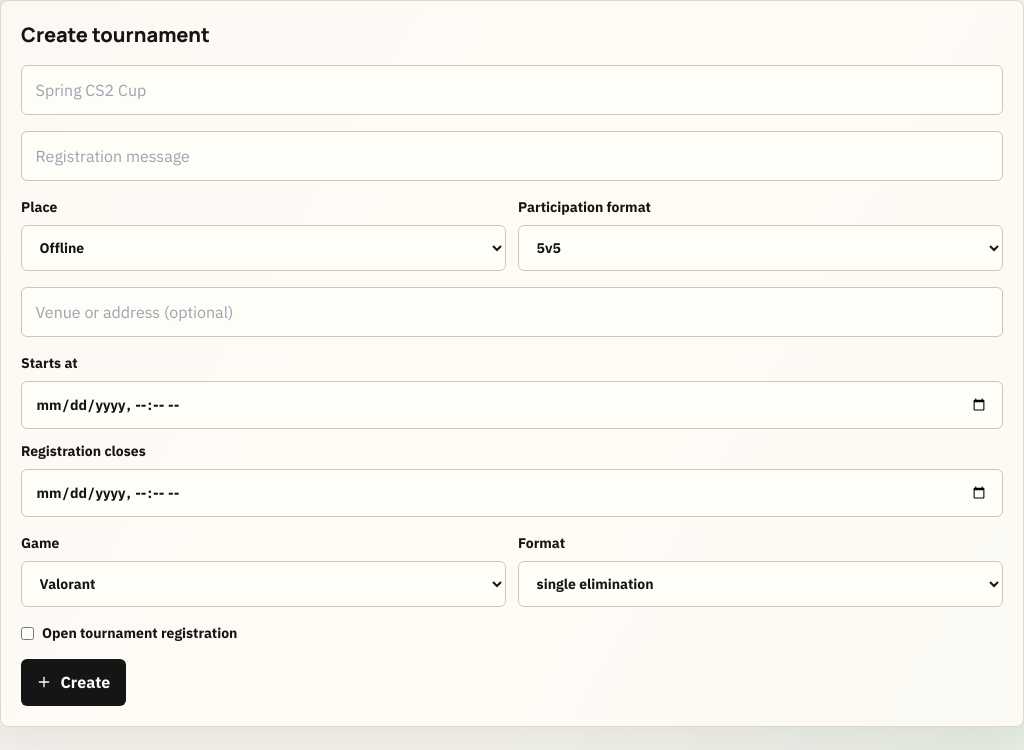
Test: TournamentCreateForm › only shows Swiss rounds for the Swiss format
The width and height of the screenshot is (1024, 750).
Check: the field labelled "Swiss rounds" is not shown
Select "swiss" in the dropdown labelled "Format" at (760, 584), box [518,561,1003,607]
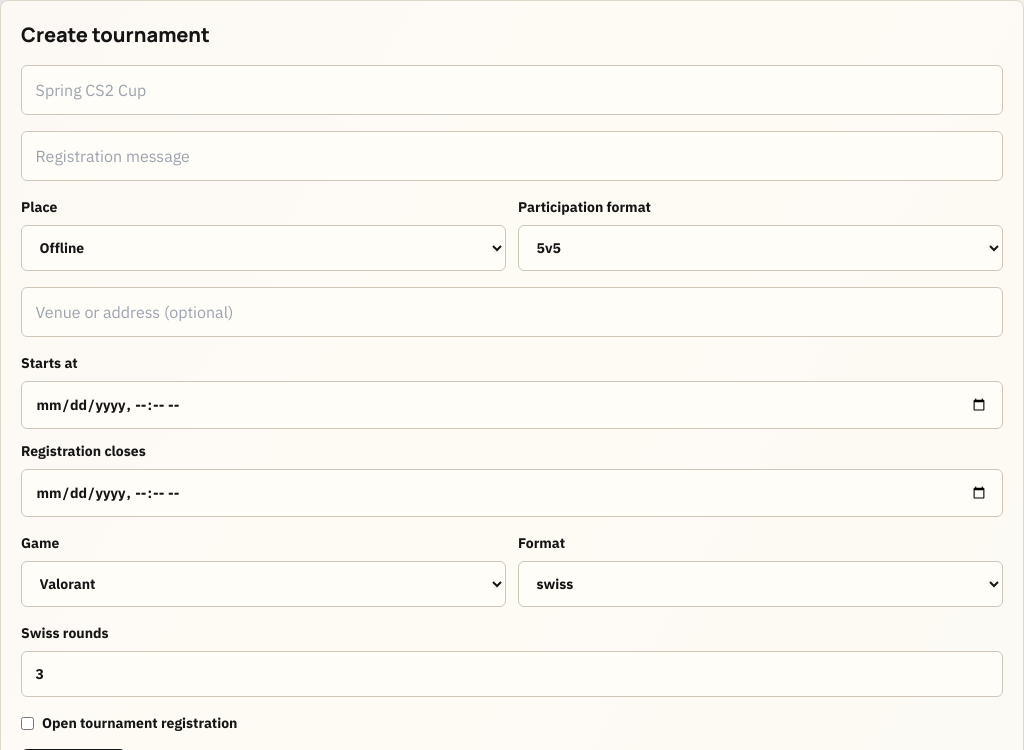
Check: the number field labelled "Swiss rounds" holds "3", box [21,651,1003,697]
Select "round robin" in the dropdown labelled "Format" at (760, 584), box [518,561,1003,607]
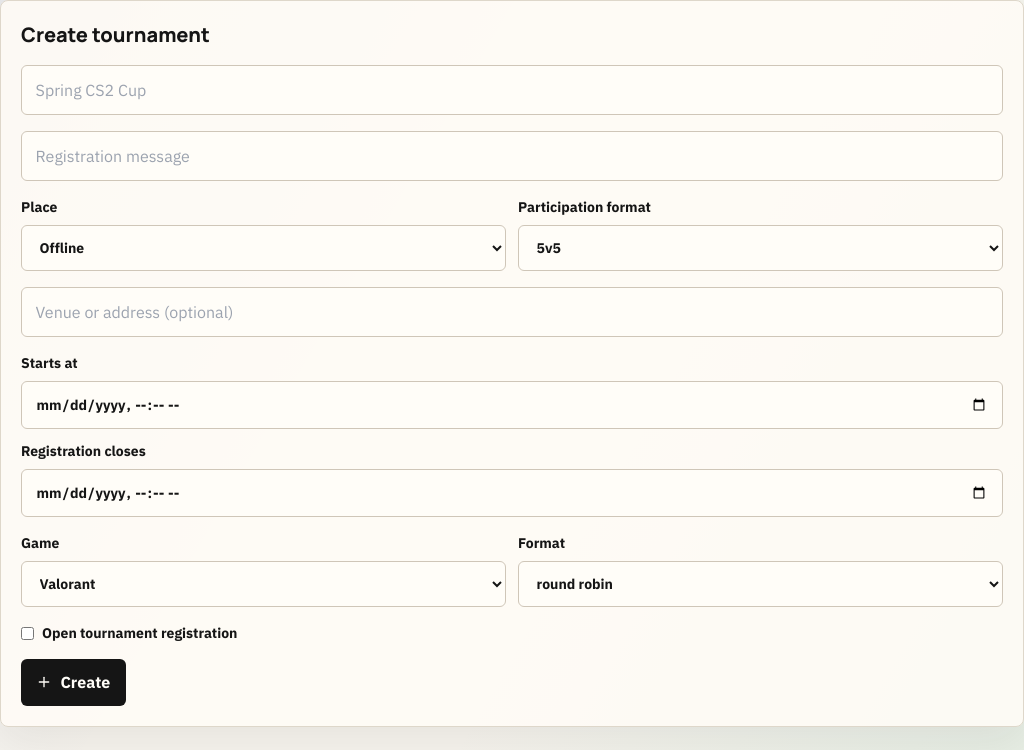
Check: the label labelled "Swiss rounds" is gone
